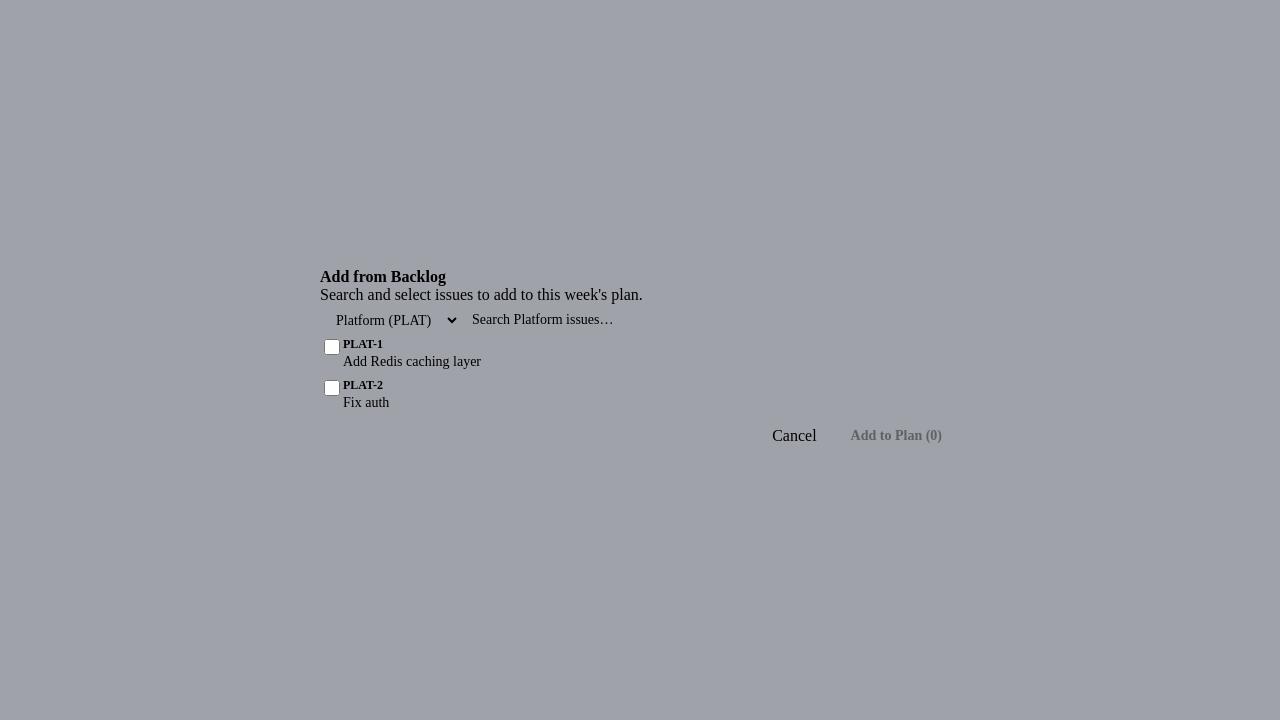
Scenario: BacklogPickerDialog › selecting multiple issues shows correct count
Click the checkbox labelled "PLAT-1 Add Redis caching layer": {"x": 332, "y": 346} [324,338,340,354]
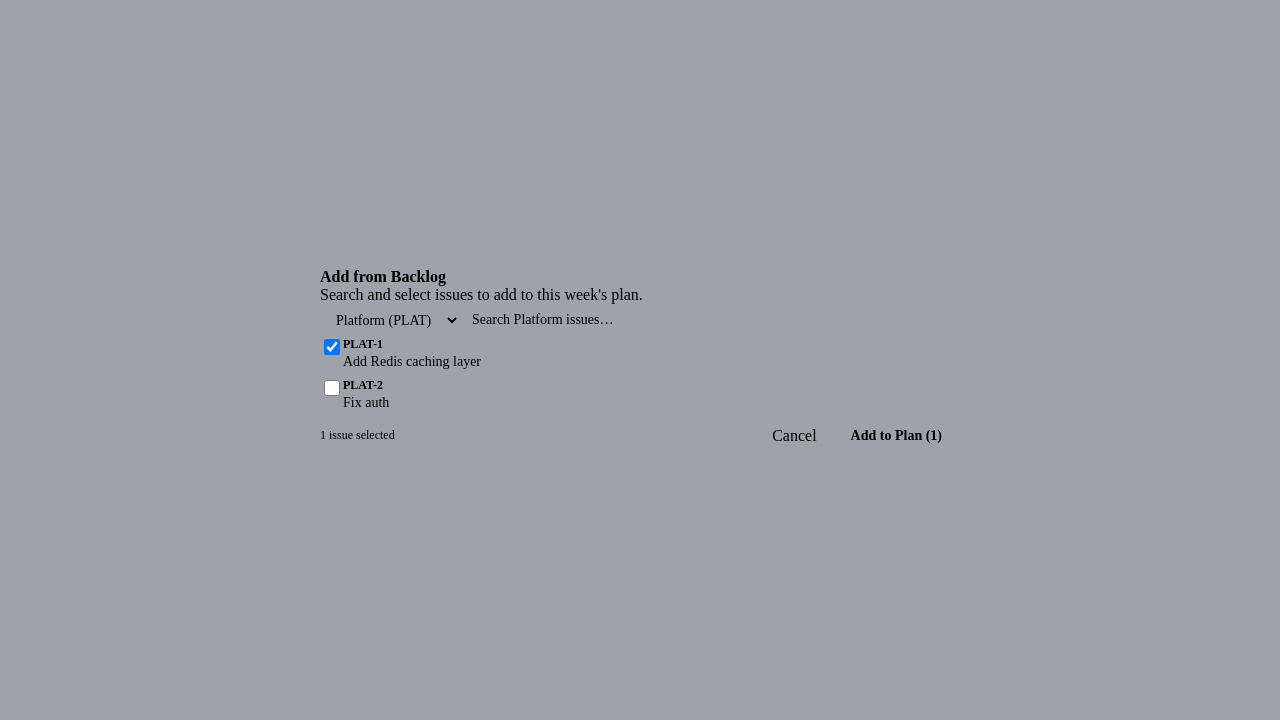
Click the checkbox labelled "PLAT-2 Fix auth": {"x": 332, "y": 388} [324,380,340,396]
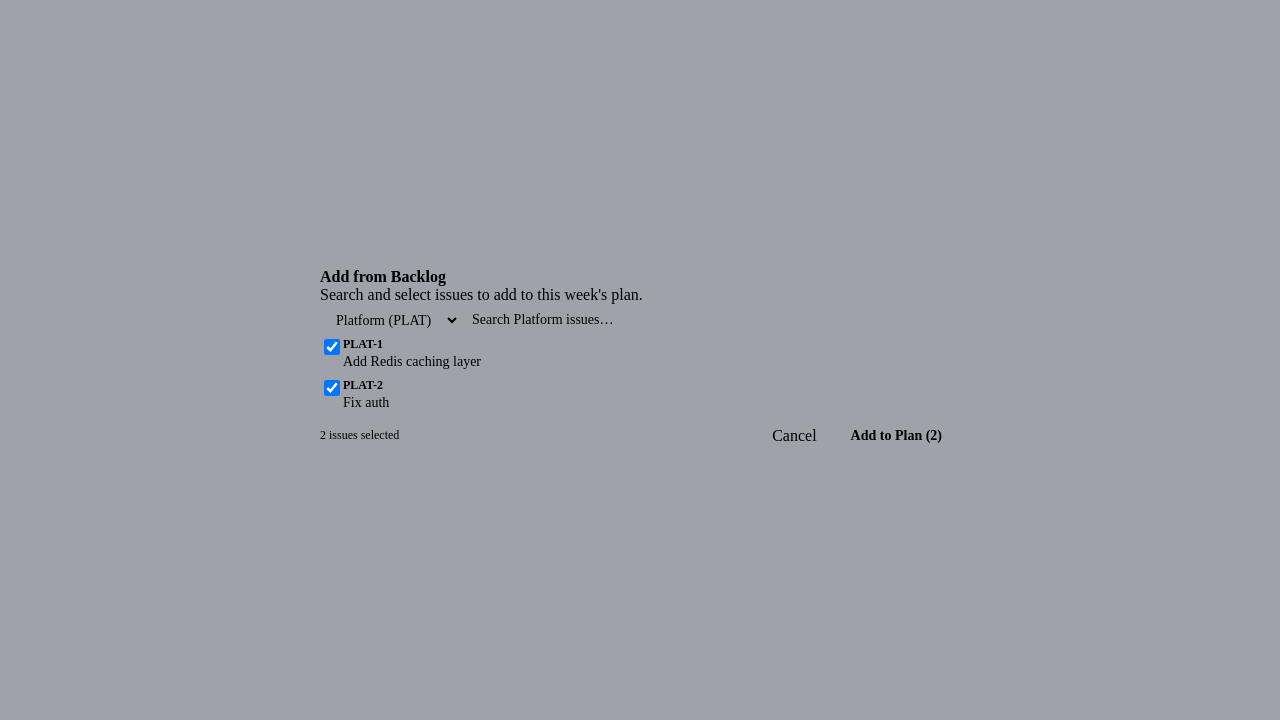
Now the button with test id "backlog-picker-confirm" reads "Add to Plan (2)", box [833,418,960,452]
Now the text "2 issues selected" is shown, box [320,428,399,443]
